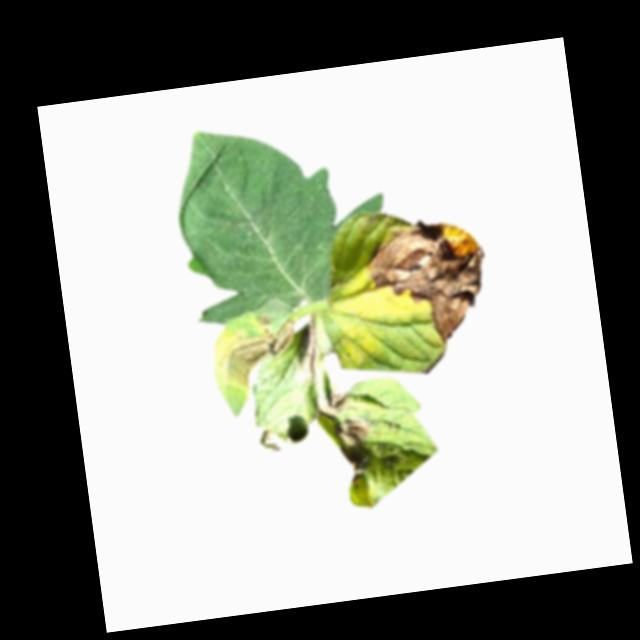Late_blight: (359, 213, 494, 353), (210, 316, 304, 392), (332, 410, 378, 487), (289, 315, 324, 385), (311, 389, 353, 419), (258, 427, 293, 456), (253, 312, 275, 327)
healthy: (166, 107, 397, 332)
